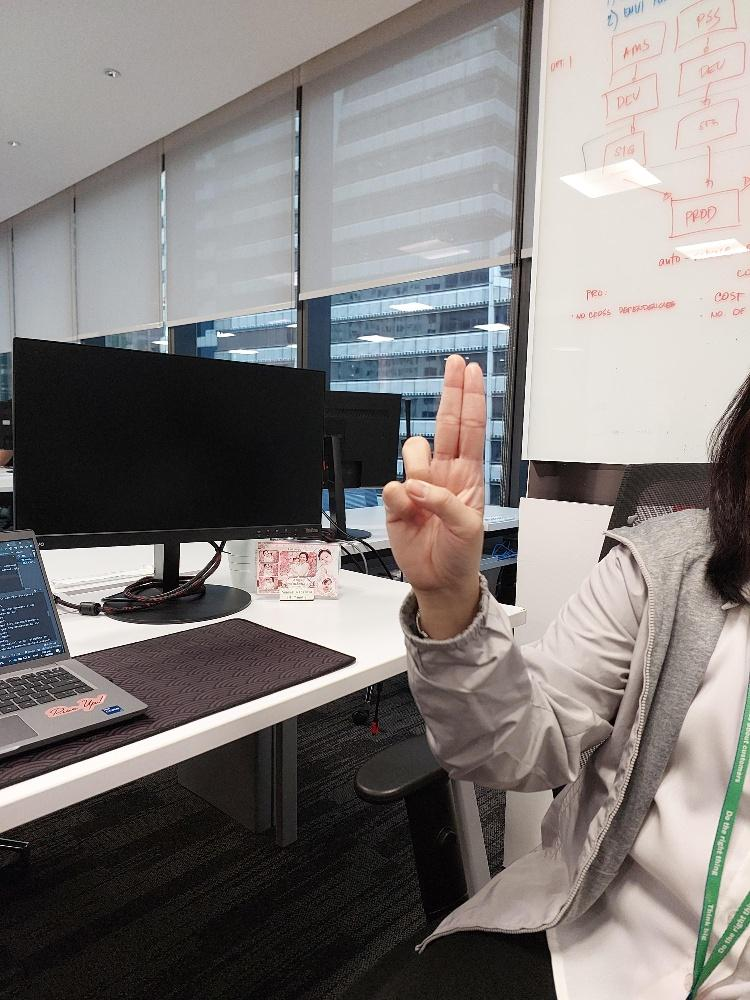u: (381, 347, 489, 591)
